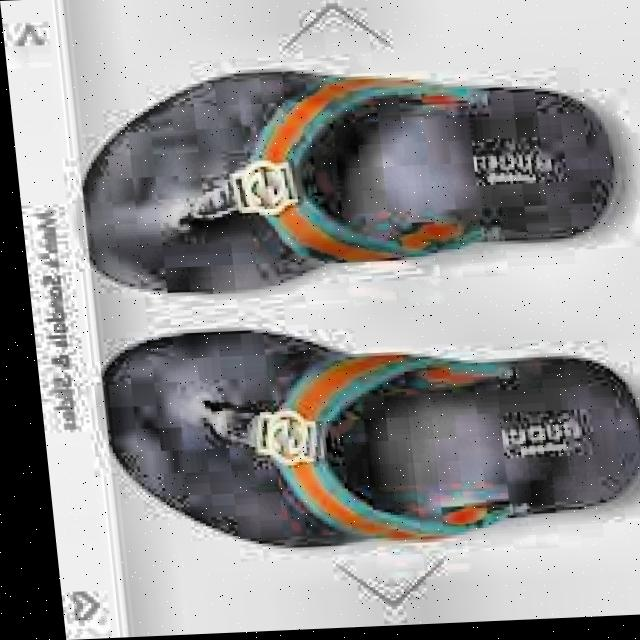shoes: (73, 50, 640, 577)
